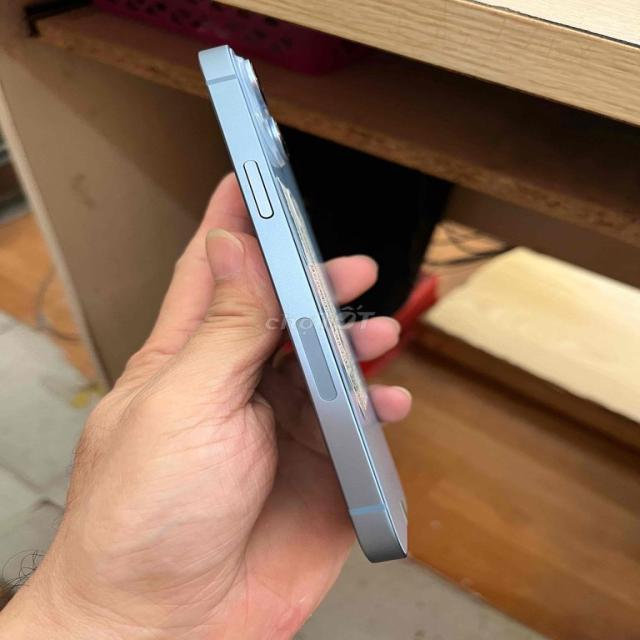gen_14: (201, 31, 425, 572)
